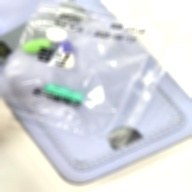러키펜정: (47, 26, 67, 43)
씨엠지세파클러캡슐: (57, 41, 74, 68)
에르도캡슐: (43, 84, 85, 105)
휴티렌정: (22, 39, 51, 54)
